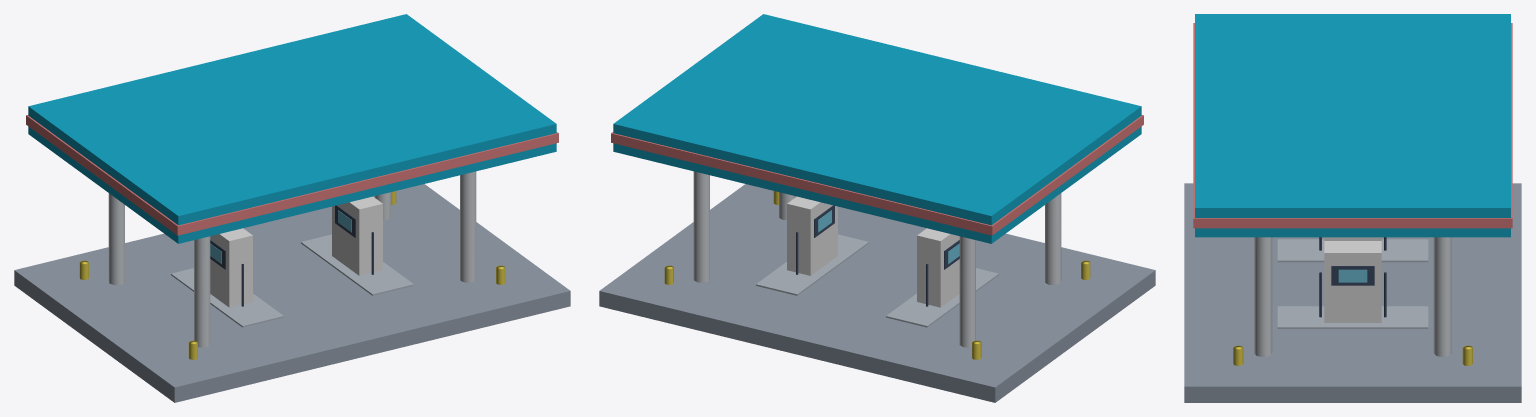
Rendered from gas-station.glb.
3 renders of one model, left to right at view 1: azimuth 30°, elevation 25°; view 2: azimuth 150°, elevation 25°; view 3: azimuth 270°, elevation 25°, orthographic. The views are drawn at different scales.
Parts seen in each view (by area): view 1: Root; view 2: Root; view 3: Root.
Part boxes in pixels (box(x1,y1,x2,y2)): Root: box(14, 14, 570, 402); Root: box(599, 14, 1155, 402); Root: box(1184, 14, 1521, 402).
Size of the model in its own units: 13.4 by 5.85 by 9.4.
